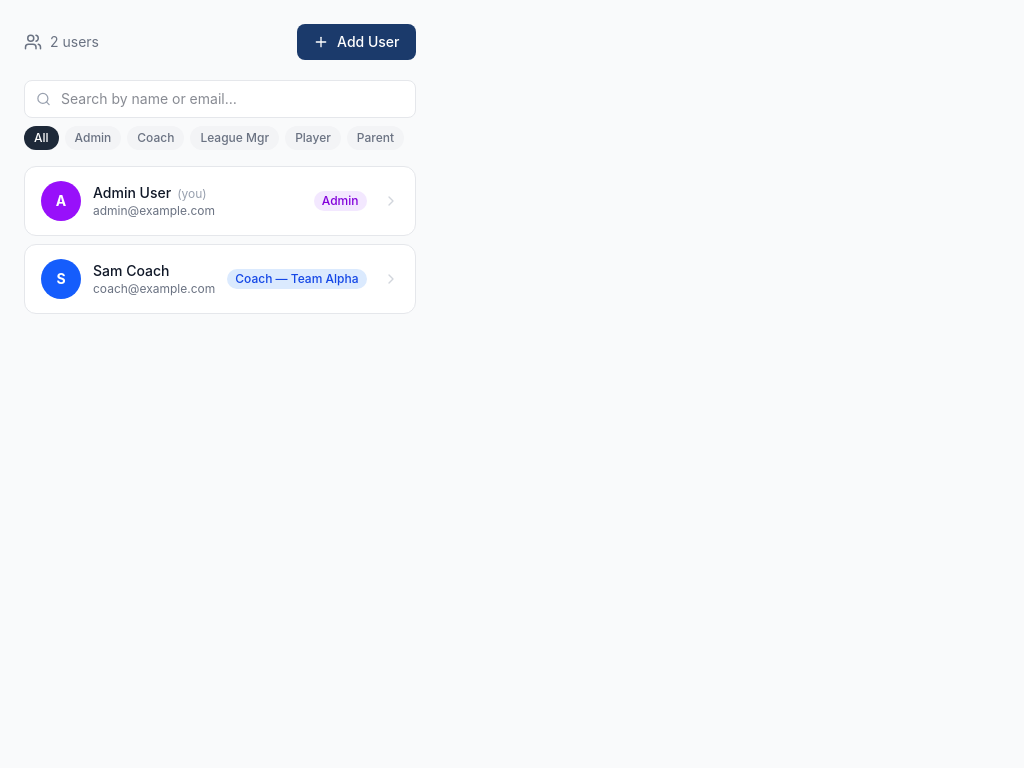
Scenario: UsersPage — AddMembershipForm: child picker for parent role › shows an error when "Add" is clicked without selecting a child
Check: the text "Sam Coach" is shown, box [93,262,170,279]
Click the button "Sam Coach" at (61, 279), box [24,244,416,314]
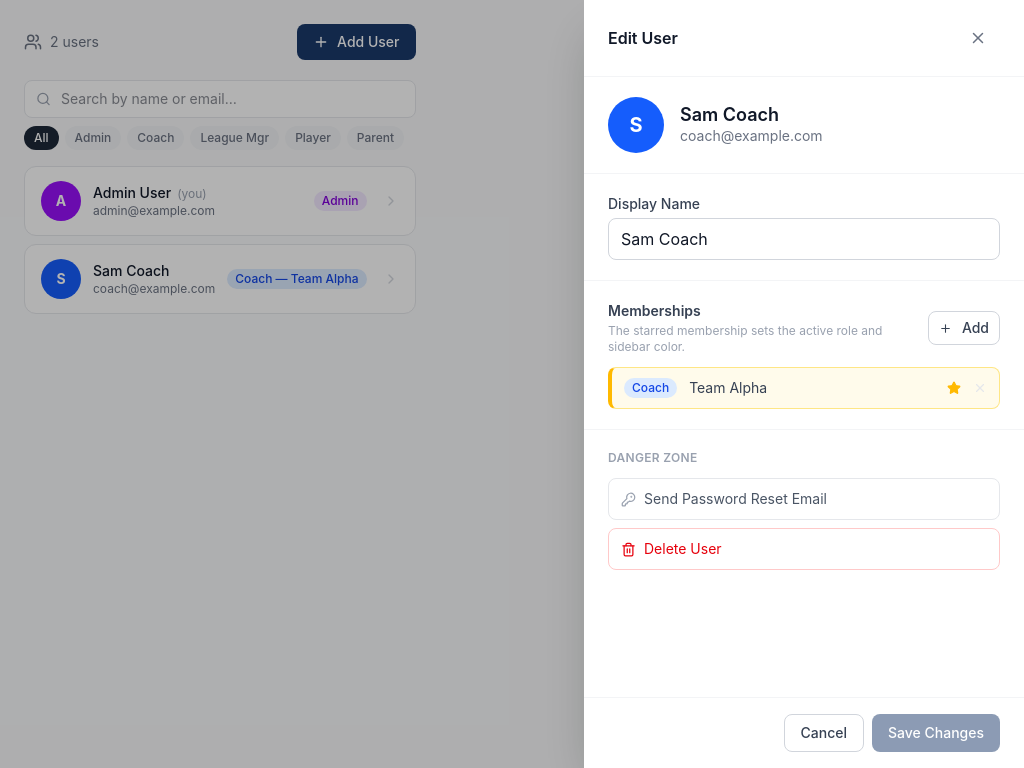
Click the button "Add" at (964, 328), box [928,311,1000,345]
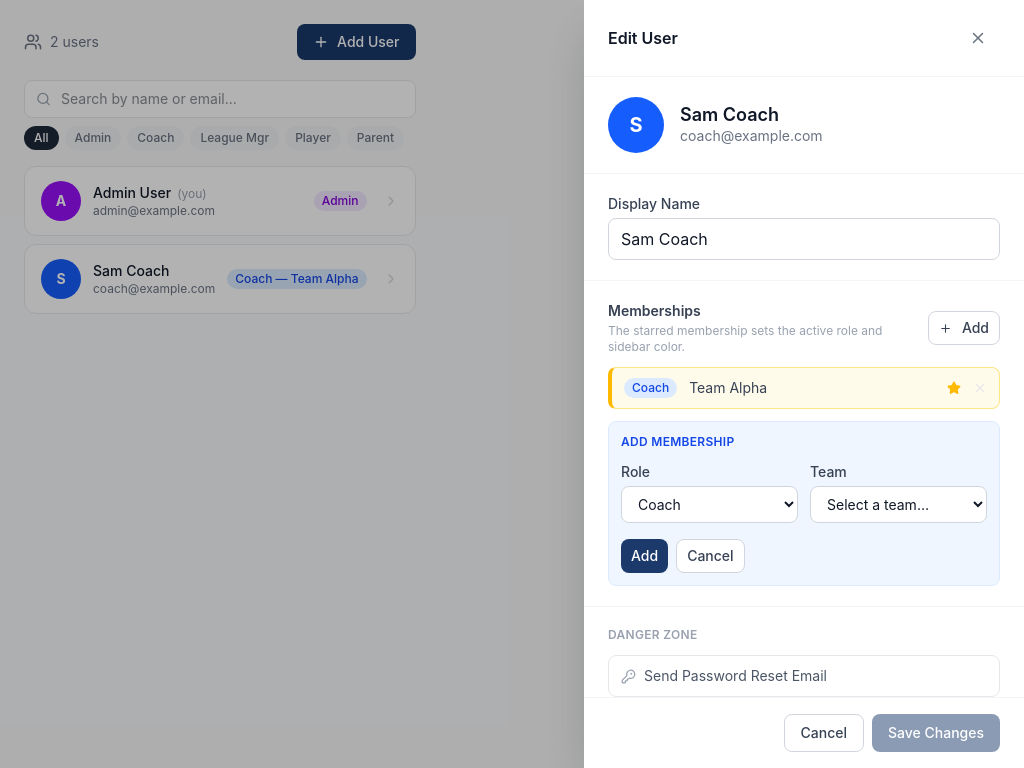
Select "Parent" in the dropdown labelled "Role" at (710, 504), box [621,486,798,523]
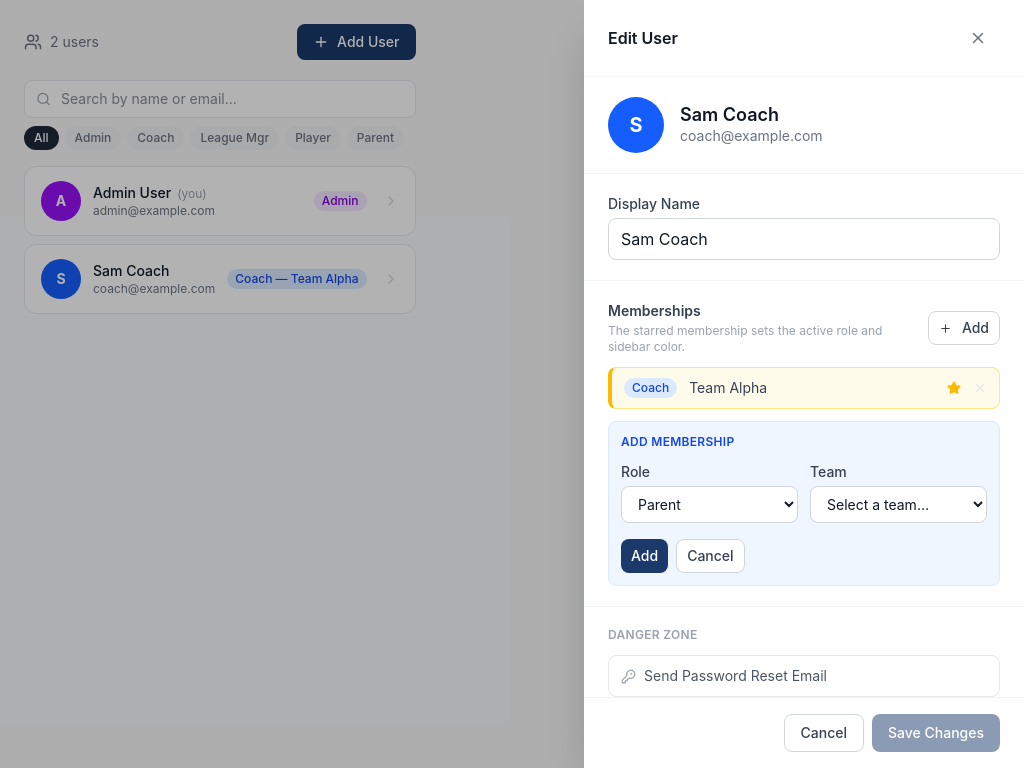
Select "Team Alpha" in the dropdown labelled "Team" at (898, 504), box [810,486,987,523]
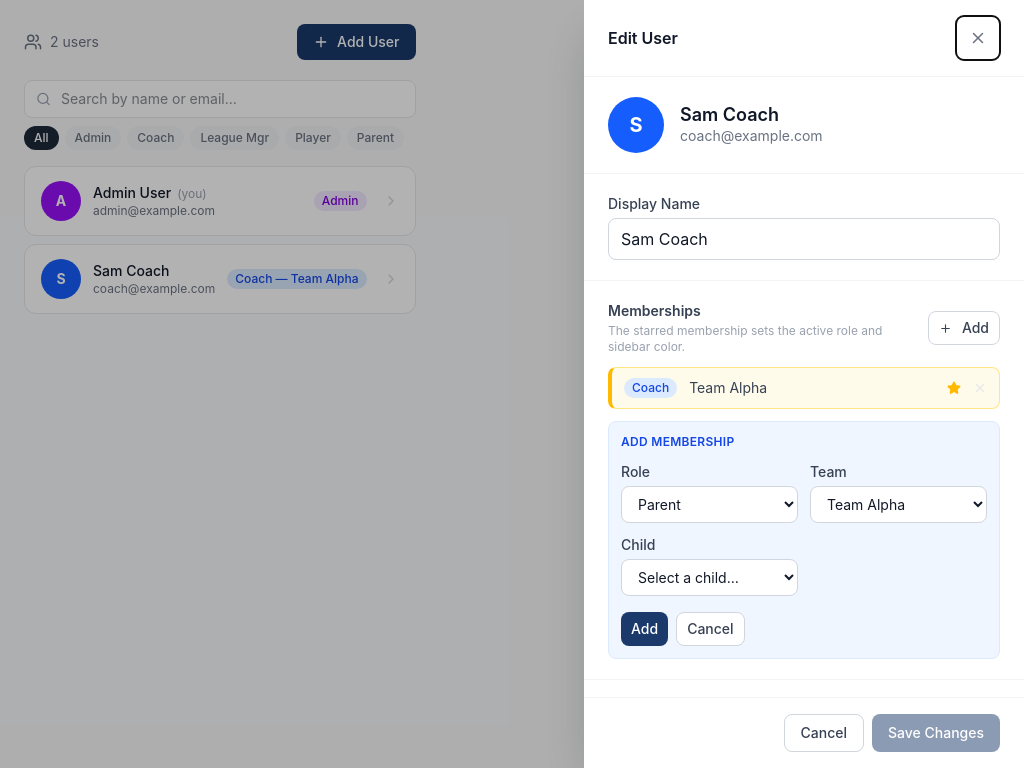
Check: the dropdown labelled "Child" is shown, box [621,559,798,596]
Click the button "Add" below "Child" at (645, 629), box [621,612,668,646]
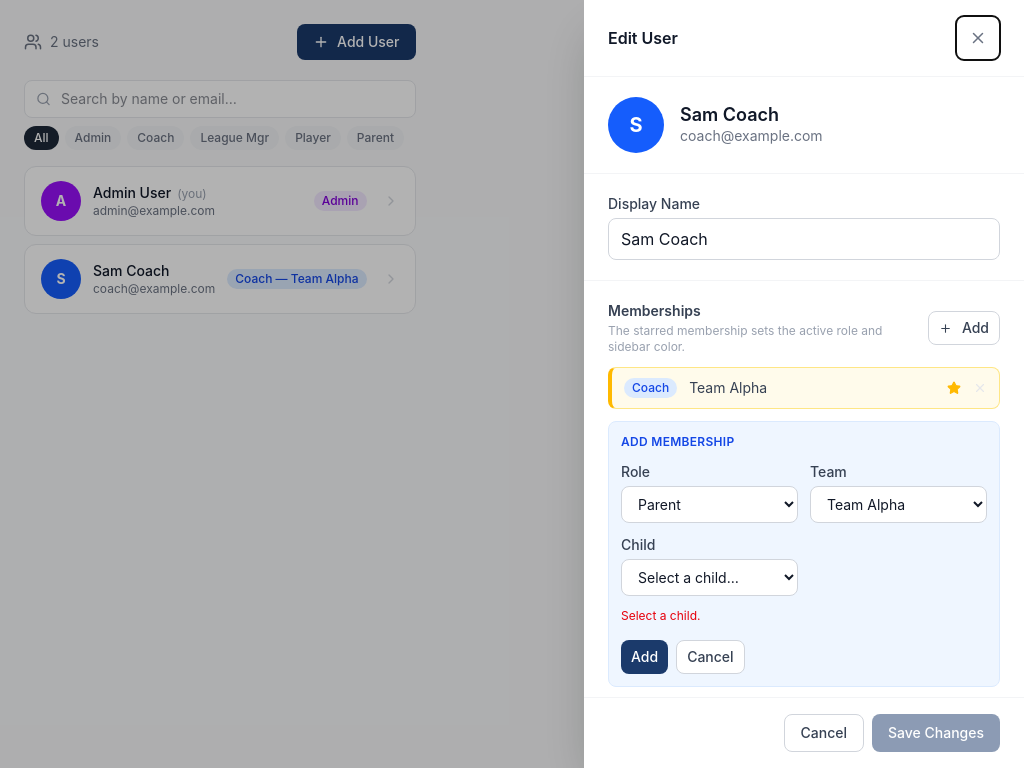
Check: the text "Select a child." is shown, box [621,608,700,623]
